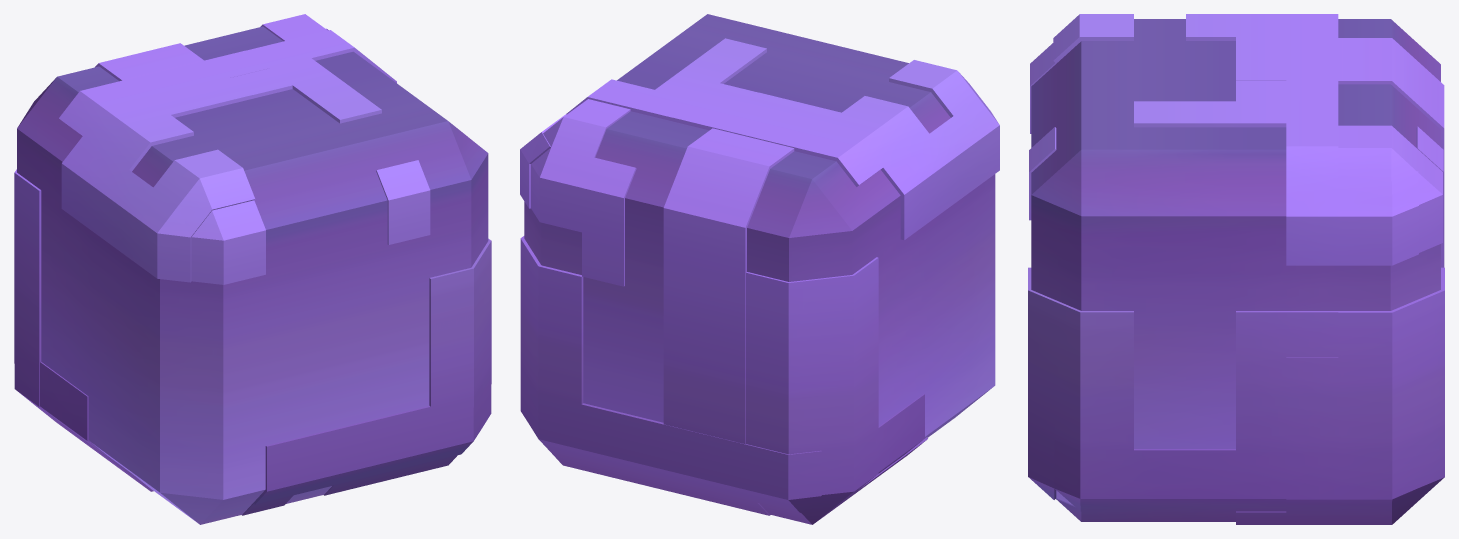
File: 8441b4ae-dce6-475d-875d-a38ae7b18cd3.glb
3 renders of one model, left to right at view 1: azimuth 30°, elevation 25°; view 2: azimuth 150°, elevation 25°; view 3: azimuth 270°, elevation 25°, orthographic. The views are drawn at different scales.
Visible parts, largest first — view 1: CyberPunkCubeShapeD.009; view 2: CyberPunkCubeShapeD.009; view 3: CyberPunkCubeShapeD.009.
Boxes of the visible parts, x1=… form: CyberPunkCubeShapeD.009: x1=14, y1=14, x2=491, y2=524; CyberPunkCubeShapeD.009: x1=520, y1=14, x2=999, y2=524; CyberPunkCubeShapeD.009: x1=1028, y1=14, x2=1444, y2=524.
Size of what is drawn, in the model's own units: 0.7775 by 0.7766 by 0.7741.
Materials: 1 (1 with a texture image).
